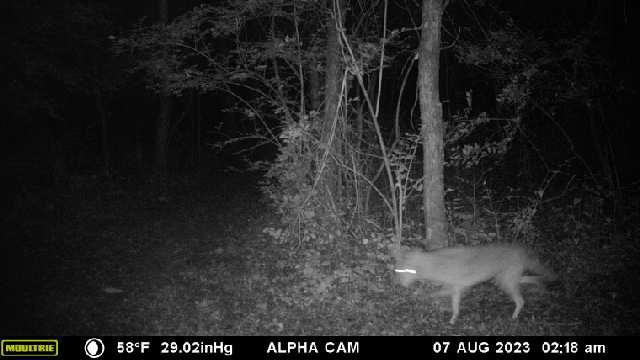Coyote: (391, 238, 559, 323)
